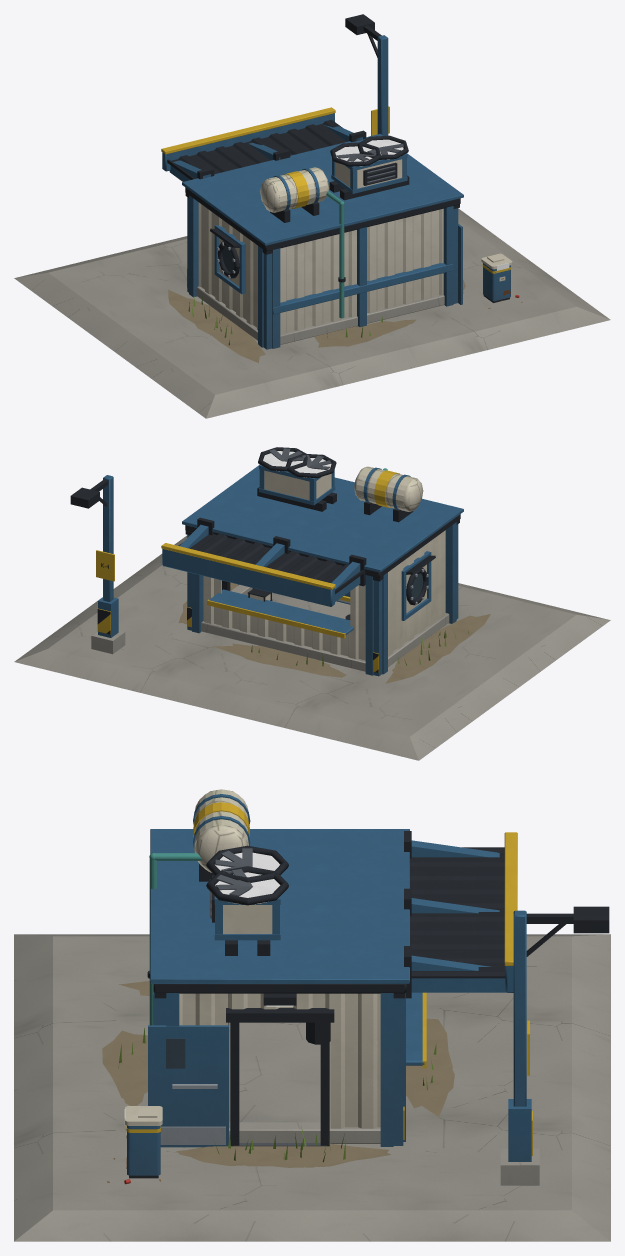
Rendered from roadside_kiosk.glb.
3 renders of one model, top to bottom at view 1: azimuth 30°, elevation 25°; view 2: azimuth 150°, elevation 25°; view 3: azimuth 270°, elevation 25°, orthographic. The views are drawn at different scales.
Visible parts, largest first — view 1: roadside_kiosk.001; view 2: roadside_kiosk.001; view 3: roadside_kiosk.001.
Boxes of the visible parts, x1,y1,x2,y2 form: roadside_kiosk.001: (14, 14, 610, 418); roadside_kiosk.001: (14, 447, 610, 760); roadside_kiosk.001: (14, 789, 610, 1241).
Size of what is drawn, in the model's own units: 11.2 by 4.75 by 9.2.
Materials: 35 (34 with a texture image).
